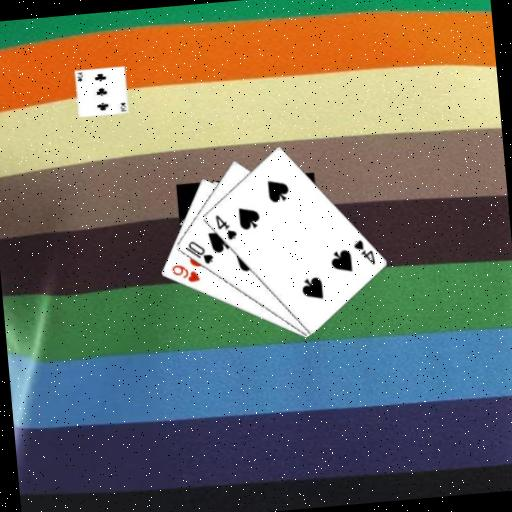10S: (182, 237, 216, 268)
4S: (349, 236, 377, 268), (212, 210, 239, 242)
9H: (167, 260, 201, 286)
